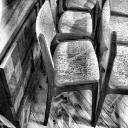chair_success: (30, 0, 102, 128)
